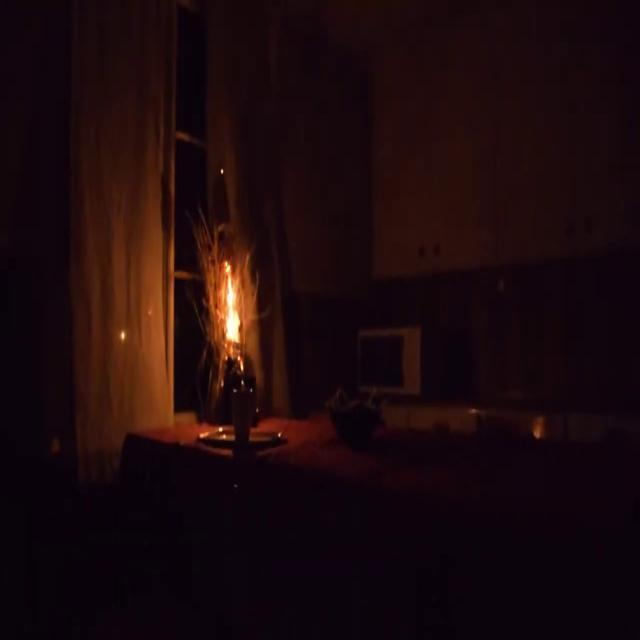Fire: (219, 249, 248, 363)
